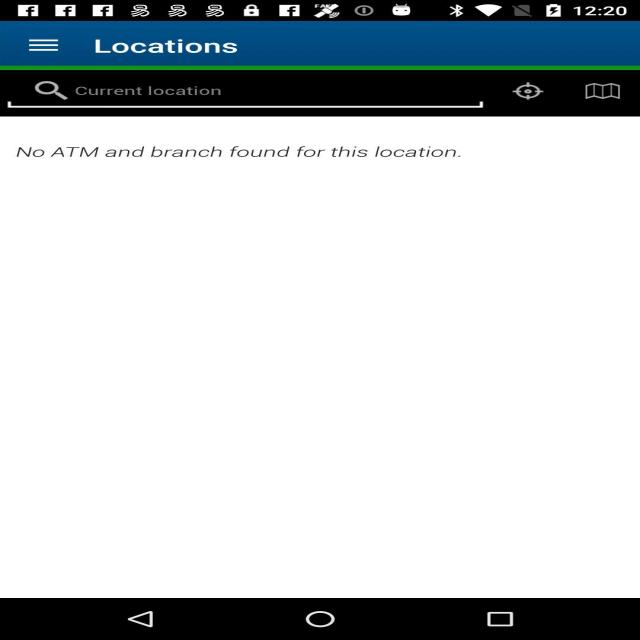icon: (569, 74, 640, 114), (491, 74, 556, 114), (6, 29, 86, 61)
text: (6, 129, 478, 175), (16, 70, 494, 106), (90, 26, 276, 60)
